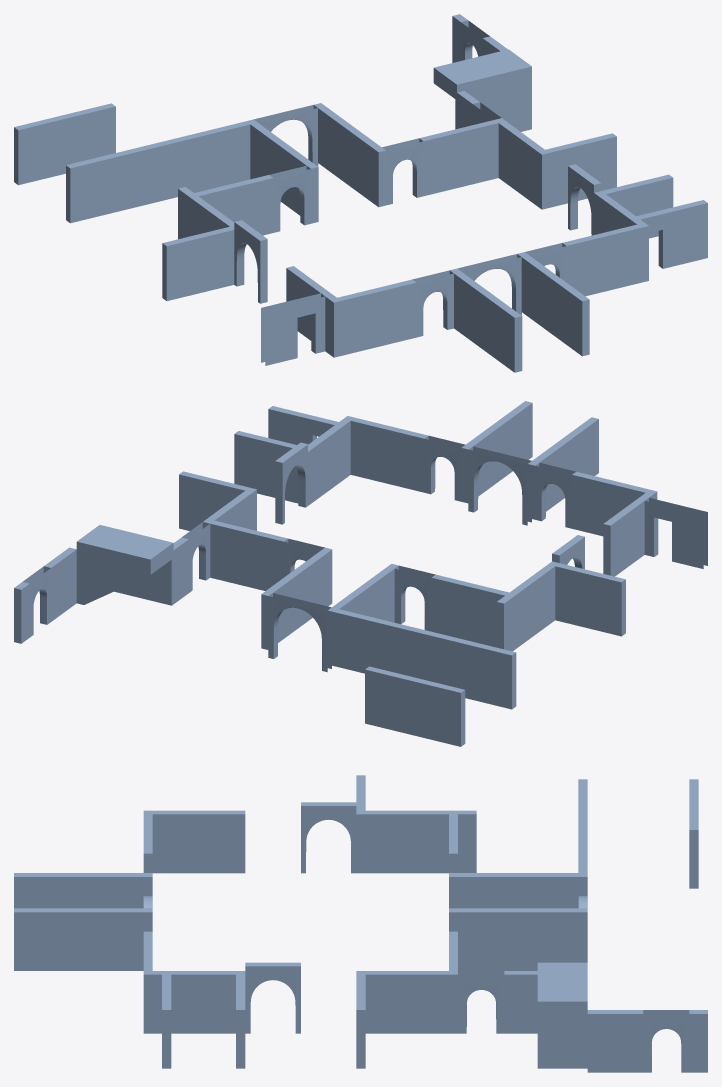
The model's file is SM_floor1_inner_walls.fbx.
3 renders of one model, top to bottom at view 1: azimuth 30°, elevation 25°; view 2: azimuth 150°, elevation 25°; view 3: azimuth 270°, elevation 25°, orthographic. The views are drawn at different scales.
Visible parts, largest first — view 1: Dining_table_v01:wall_llong13, Fireplace:Fireplace:Fireplace:Fireplace:walls36, walls28, walls25, walls11, walls6, wall_llong14, walls9, walls, walls26, wall_llong11, Fireplace:Window8 (+18 smaller); view 2: Dining_table_v01:wall_llong13, walls28, Fireplace:Fireplace:Fireplace:Fireplace:walls36, walls6, walls25, wall_llong14, walls31, Doorway12, walls34, walls26, walls, Fireplace:Window8 (+19 smaller); view 3: walls, walls26, walls34, Doorway12, walls8, walls33, walls28, walls1, walls9, walls27, walls90, entryHall17 (+10 smaller).
Part boxes in pixels (x1,y1,x2,y2): Dining_table_v01:wall_llong13: [66, 120, 256, 223]; Fireplace:Fireplace:Fireplace:Fireplace:walls36: [14, 103, 115, 185]; walls28: [433, 49, 531, 131]; walls25: [419, 120, 498, 195]; walls11: [337, 279, 416, 355]; walls6: [562, 224, 641, 296]; wall_llong14: [162, 226, 234, 300]; walls9: [449, 268, 522, 372]; walls: [517, 252, 589, 356]; walls26: [313, 103, 385, 207]; wall_llong11: [537, 133, 616, 209]; Fireplace:Window8: [261, 293, 325, 365]; Dining_table_v01:wall_llong13: [327, 609, 516, 709]; walls28: [76, 525, 173, 605]; Fireplace:Fireplace:Fireplace:Fireplace:walls36: [365, 666, 465, 746]; walls6: [350, 417, 428, 492]; walls25: [210, 520, 288, 590]; wall_llong14: [554, 562, 625, 636]; walls31: [431, 574, 509, 647]; Doorway12: [14, 547, 76, 643]; walls34: [496, 561, 558, 651]; walls26: [261, 547, 332, 649]; walls: [461, 401, 532, 503]; Fireplace:Window8: [644, 497, 707, 568]; walls: [14, 908, 152, 970]; walls26: [449, 908, 587, 970]; walls34: [356, 810, 476, 873]; Doorway12: [587, 1010, 707, 1072]; walls8: [143, 810, 245, 873]; walls33: [356, 971, 457, 1033]; walls28: [537, 962, 587, 1068]; walls1: [143, 971, 245, 1033]; walls9: [14, 873, 152, 908]; walls27: [449, 873, 587, 908]; walls90: [504, 971, 537, 1033]; entryHall17: [245, 962, 300, 1033].
Size of the model in its own units: 3050 by 450 by 3750.
